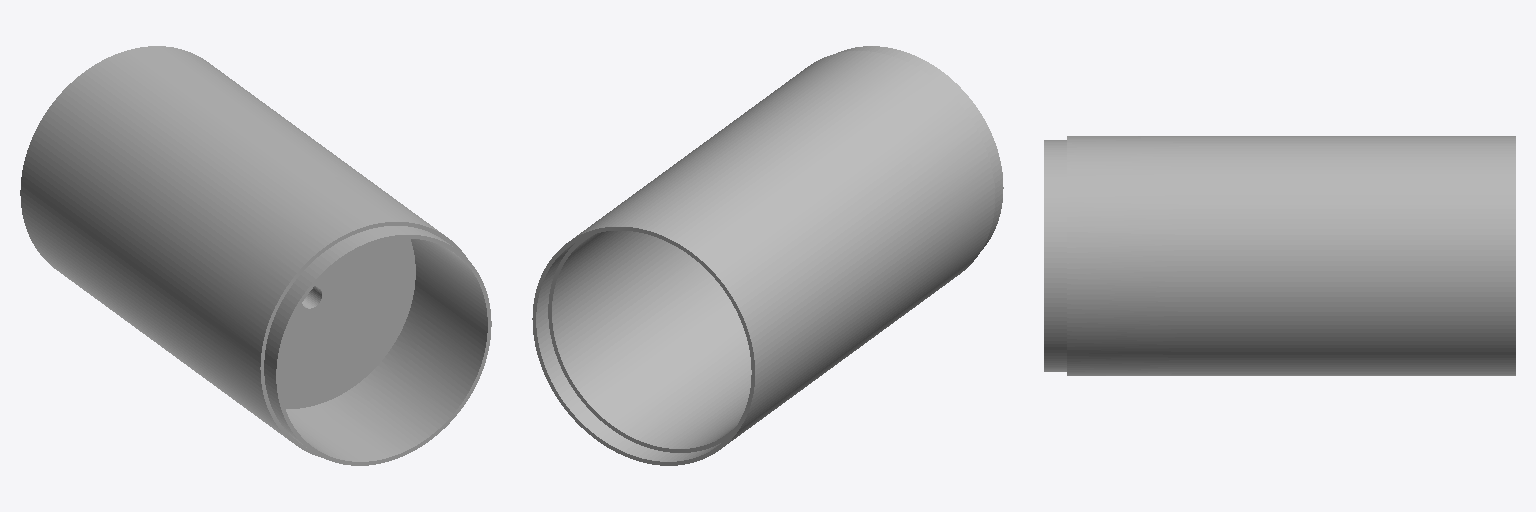
The robot description file, URDF, robot "root":
<?xml version='1.0' encoding='utf-8'?>
<robot name="root">
  <link name="link_001">
    <visual>
      <origin xyz="0 0 0" rpy="0 0 0" />
      <geometry>
        <mesh filename="ed5e52a2233426999f30446c2a71effb2e12dcb4dd4caf6a44c8def0028159aa_scale_000.stl" scale="1.0000E+00 1.0000E+00 1.0000E+00" />
      </geometry>
      <material name="">
        <color rgba="7.50E-01 7.50E-01 7.50E-01 1" />
      </material>
    </visual>
    <collision>
      <origin xyz="0 0 0" rpy="0 0 0" />
      <geometry>
        <mesh filename="ed5e52a2233426999f30446c2a71effb2e12dcb4dd4caf6a44c8def0028159aa_scale_000.stl" scale="1.0000E+00 1.0000E+00 1.0000E+00" />
      </geometry>
    </collision>
  </link>
</robot>

--- Facts derived from the render (not from the file) ---
Views: 3 orthographic renders of the robot side by side, from view 1: azimuth 30°, elevation 25°; view 2: azimuth 150°, elevation 25°; view 3: azimuth 270°, elevation 25°.
Robot: root — 1 links, 0 joints (none); root link link_001; default pose: all joints at 0.
Links seen in each view (by area): view 1: link_001; view 2: link_001; view 3: link_001.
Boxes of the visible links, box(x1,y1,x2,y2) form: link_001: box(20, 46, 491, 465); link_001: box(532, 46, 1003, 465); link_001: box(1044, 136, 1515, 375).
Bounding box of the posed robot: 0.0562 × 0.11 × 0.0562 m (x, y, z).
Meshes: 1 distinct files referenced, 1 mesh visuals loaded (1 binary STL).
